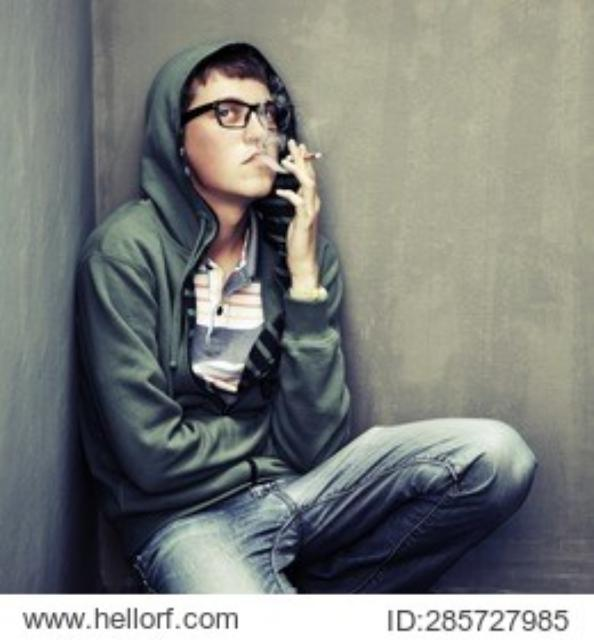SafeDriving: (215, 100, 245, 124)
Smoking: (263, 138, 331, 172)
